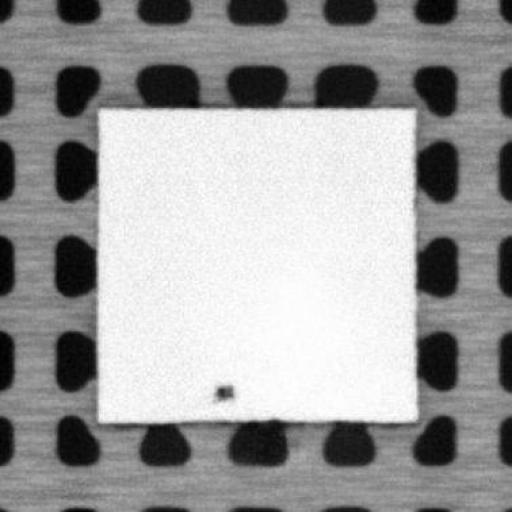DIE_INK: (214, 381, 232, 400)
